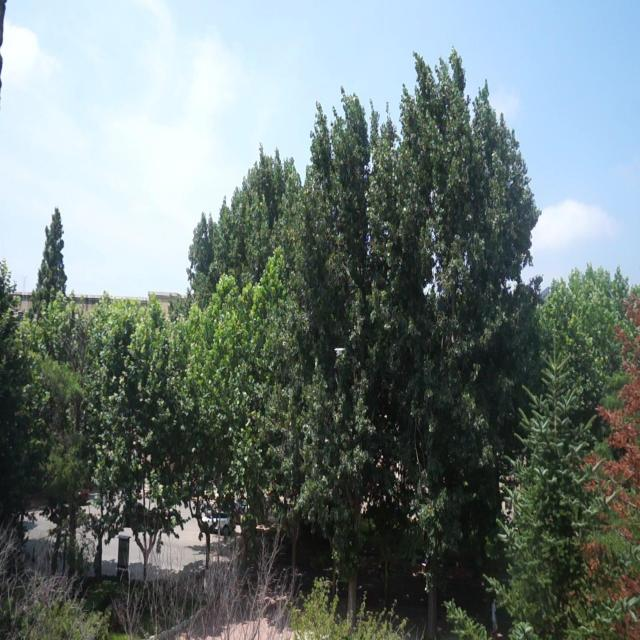UAV: (334, 348, 345, 357)
